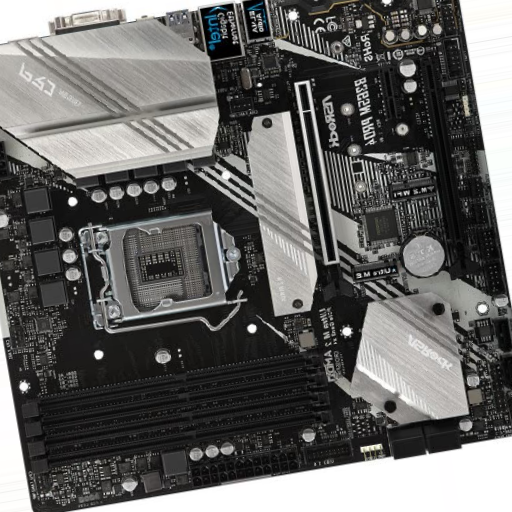CPU: (79, 209, 244, 333)
GPU: (417, 53, 467, 264), (293, 79, 340, 264)
MOTHERBOARD: (1, 3, 512, 509)
RAM: (19, 347, 333, 475)
SSD: (349, 256, 400, 284), (388, 176, 439, 202)
